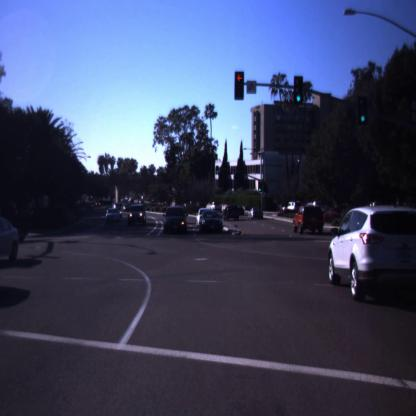trafficlight: (354, 92, 372, 132), (230, 68, 247, 103), (292, 72, 306, 111)
